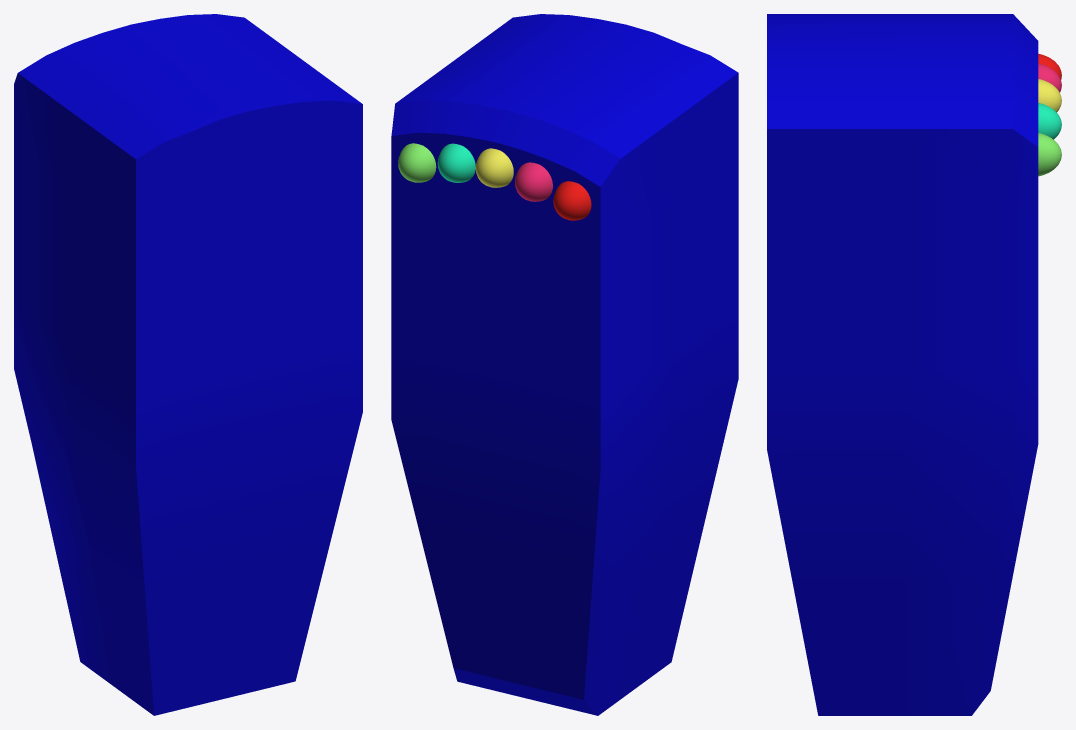
File: ghost_detect.fbx
The picture shows the model from 3 angles, left to right: view 1: azimuth 30°, elevation 25°; view 2: azimuth 150°, elevation 25°; view 3: azimuth 270°, elevation 25°; orthographic projection. The views are drawn at different scales.
Visible parts, largest first — view 1: Body; view 2: Body; view 3: Body.
Part boxes in pixels (x1,y1,x2,y2): Body: (14, 14, 362, 715); Body: (391, 14, 738, 715); Body: (767, 14, 1061, 715).
Bounding box in the file's own units: 10.33 × 26.34 × 11.18.
